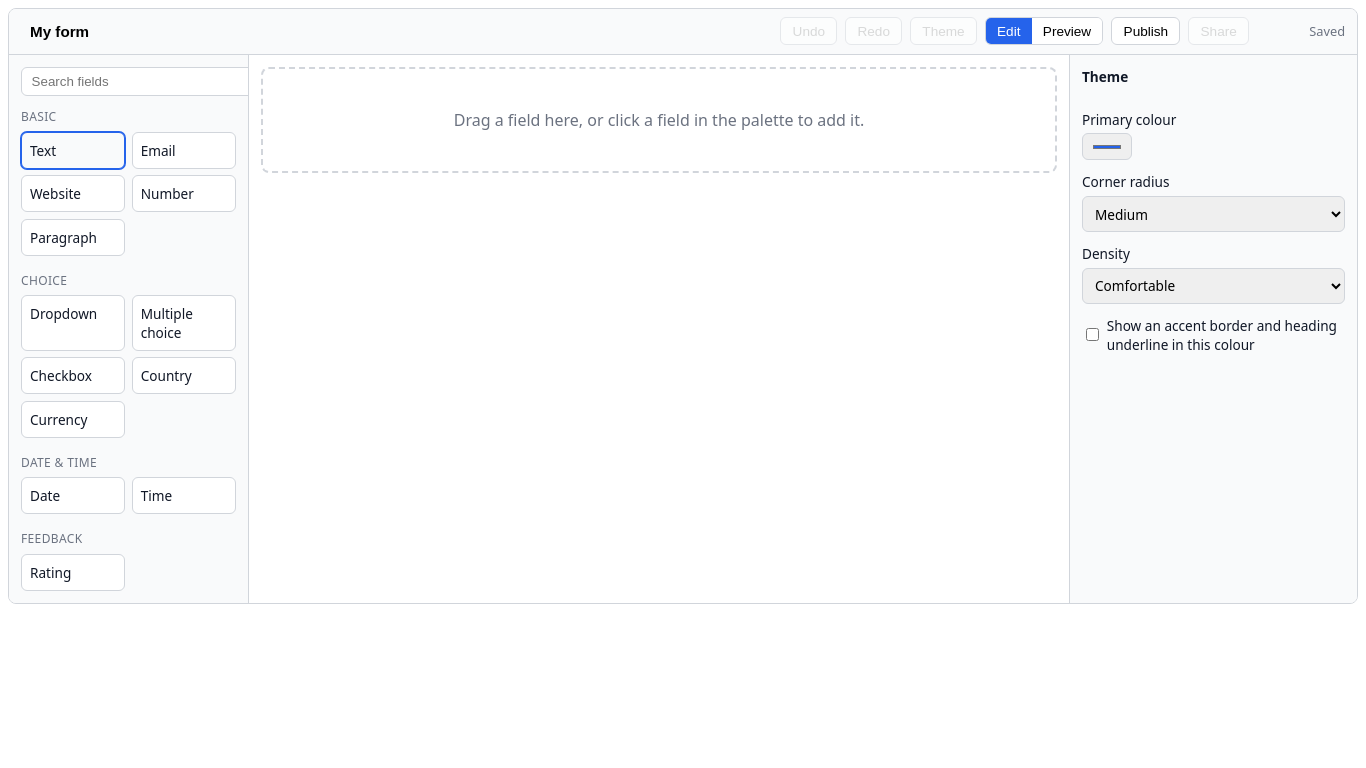
it: Builder › shows an error message if publishing fails, without losing the form
Click the button "Publish" at (1146,31), box [1111,17,1180,45]
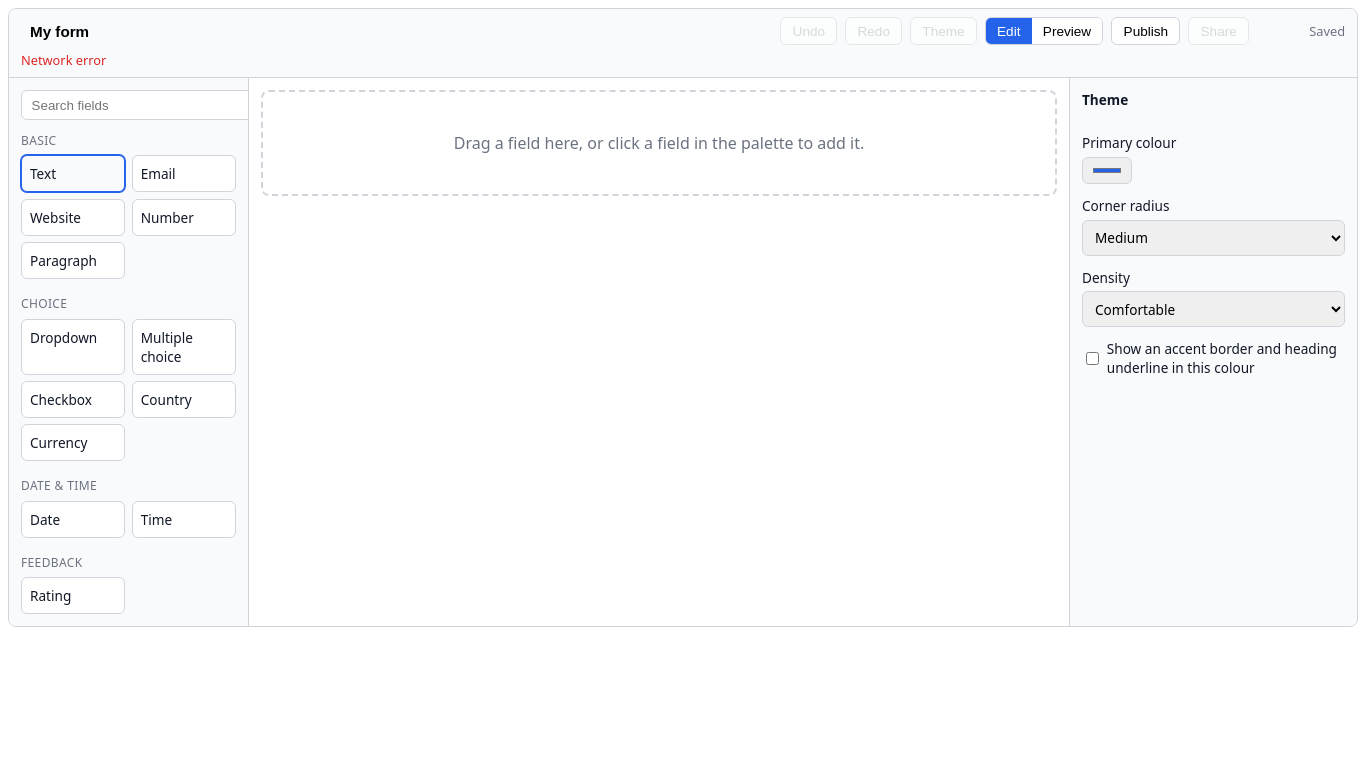
Result: the text "Network error" is shown at [21,51,106,69]
